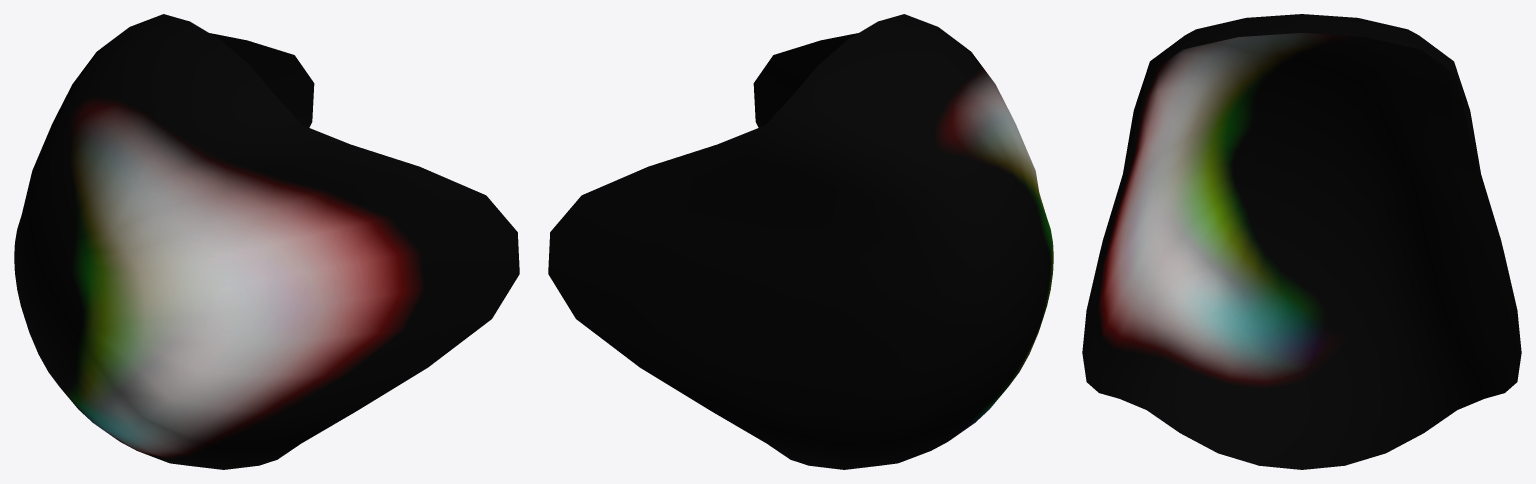
Rendered from SM_WatchOutHesASpeedyBoi_Sphere.glb.
3 renders of one model, left to right at view 1: azimuth 30°, elevation 25°; view 2: azimuth 150°, elevation 25°; view 3: azimuth 270°, elevation 25°, orthographic. The views are drawn at different scales.
Visible parts, largest first — view 1: SM_WatchOutHesASpeedyBoi_Sphere.001; view 2: SM_WatchOutHesASpeedyBoi_Sphere.001; view 3: SM_WatchOutHesASpeedyBoi_Sphere.001.
Part boxes in pixels (<box>): SM_WatchOutHesASpeedyBoi_Sphere.001: <box>14,14,519,469</box>; SM_WatchOutHesASpeedyBoi_Sphere.001: <box>548,14,1053,469</box>; SM_WatchOutHesASpeedyBoi_Sphere.001: <box>1082,14,1521,469</box>.
Bounding box in the file's own units: 631 × 663 × 604.
1 material, 1 textured.
